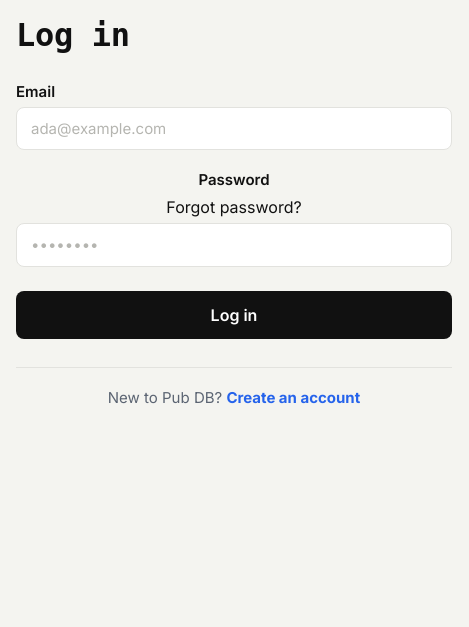
Test case: AuthGate › switches to register mode showing extra fields when 'Create an account' is clicked
Step 1. Click the button "Create an account" → [293, 397], box left=226, top=388, right=360, bottom=406
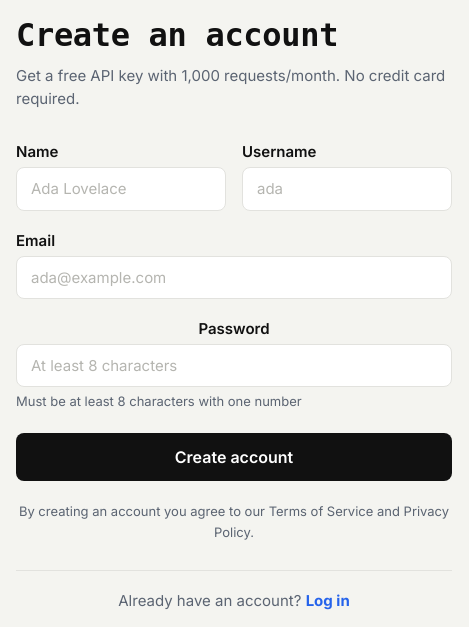
Expected: the heading "Create an account" is shown, left=16, top=16, right=338, bottom=54
Expected: the field labelled "Name" is shown, left=16, top=167, right=226, bottom=211
Expected: the field labelled "Username" is shown, left=242, top=167, right=452, bottom=211
